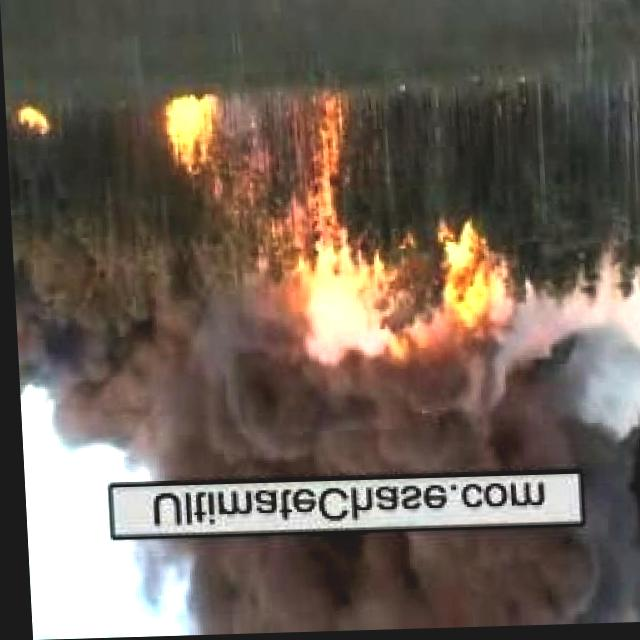helmet: (290, 88, 364, 265), (156, 95, 231, 179), (434, 230, 497, 326), (14, 108, 56, 142)
no_helmet: (11, 267, 640, 480), (145, 534, 640, 634)
